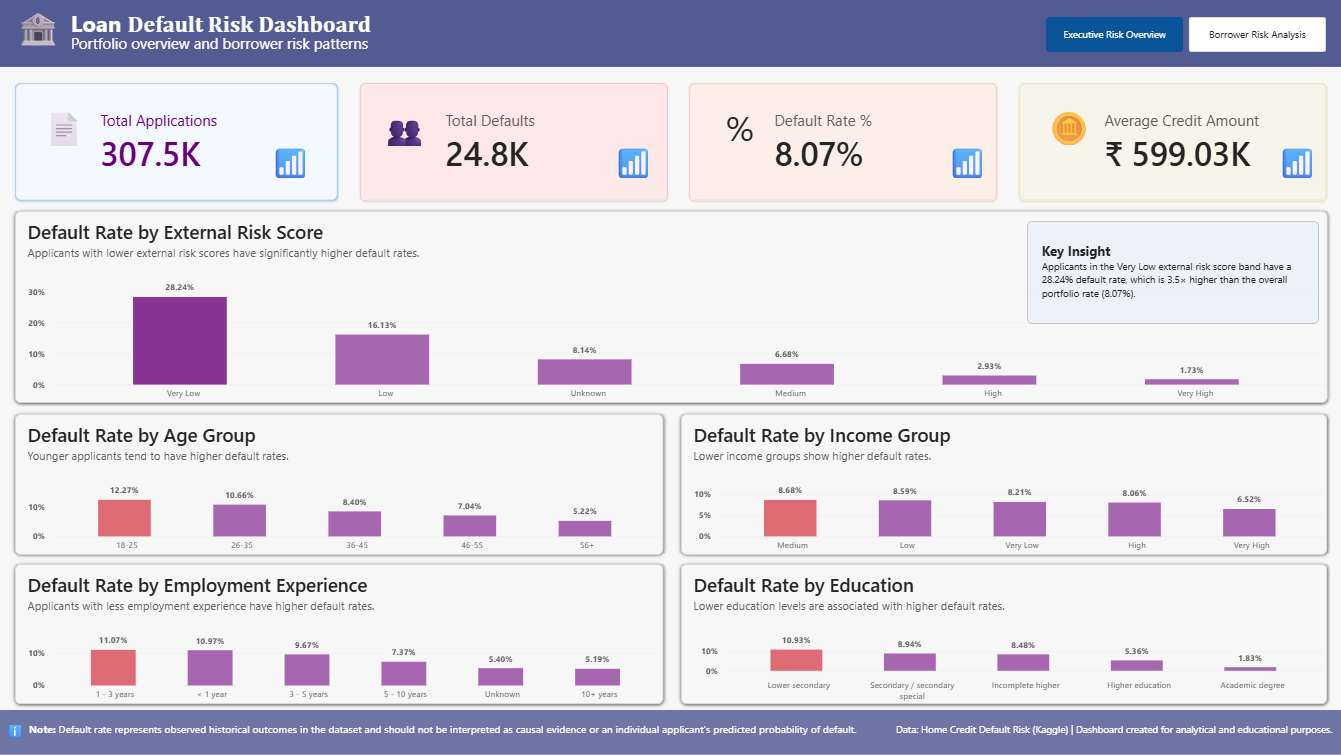

This screenshot's page, from the dashboard's own definition file:
{"tool":"powerbi","page":{"name":"Executive Risk Overview","canvas":[1920,1080],"ordinal":0},"visuals":[{"type":"shape","title":"Lan","box":[0,0,1920.6,97.1],"z":0},{"type":"cardVisual","title":"Total Applications","fields":{"Data":["applications_clean.Total Applications"]},"box":[23.9,119.7,461.5,168.9],"z":1000},{"type":"cardVisual","fields":{"Data":["applications_clean.Total Defaults"]},"box":[516.5,119.7,440.2,168.9],"z":2000},{"type":"cardVisual","fields":{"Data":["applications_clean.Default Rate %"]},"box":[987.8,119.7,440.2,168.9],"z":3000},{"type":"cardVisual","fields":{"Data":["applications_clean.Average Credit Amount"]},"box":[1459.1,119.7,440.2,168.9],"z":4000},{"type":"clusteredColumnChart","title":"Default Rate by External Risk Score","fields":{"Category":["applications_clean.EXT_SOURCE_BAND"],"Y":["applications_clean.Default Rate %"]},"box":[23.9,303.3,1875.4,274],"z":5000},{"type":"clusteredColumnChart","title":"Default Rate by Age Group","fields":{"Category":["applications_clean.AGE_GROUP"],"Y":["applications_clean.Default Rate %"]},"box":[23.9,593.2,925.7,200.8],"z":6000},{"type":"clusteredColumnChart","title":"Default Rate by Income Group","fields":{"Category":["applications_clean.INCOME_GROUP"],"Y":["applications_clean.Default Rate %"]},"box":[976.3,593.2,923.1,200.8],"z":7000},{"type":"clusteredColumnChart","title":"Default Rate by Employment Experience","fields":{"Category":["applications_clean.EMPLOYMENT_BAND"],"Y":["applications_clean.Default Rate %"]},"box":[23.9,807.3,925.7,199.5],"z":8000},{"type":"clusteredColumnChart","title":"Default Rate by Education","fields":{"Y":["applications_clean.Default Rate %"],"Category":["applications_clean.NAME_EDUCATION_TYPE"]},"box":[976.3,807.3,923.1,199.5],"z":9000},{"type":"shape","box":[0,1016.2,1920.6,63.8],"z":10000},{"type":"textbox","box":[103.7,12,444.2,53.2],"z":11000},{"type":"textbox","box":[103.7,49.2,428.3,53.2],"z":12000},{"type":"textbox","box":[43.9,1033.4,1186.4,29.3],"z":13000},{"type":"textbox","box":[1283.5,1033.4,626.5,29.3],"z":14000},{"type":"textbox","box":[1470,317.1,417.1,147.1],"z":15000},{"type":"textbox","box":[23.9,10.6,73.2,65.2],"z":16000},{"type":"textbox","box":[61.2,151.6,70.5,71.8],"z":17000},{"type":"textbox","box":[548,151.6,70.5,71.8],"z":18000},{"type":"textbox","box":[1497.6,150.3,78.5,73.2],"z":19000},{"type":"textbox","box":[1040.1,151.6,70.5,71.8],"z":20000},{"type":"textbox","box":[12,1033,23.9,25.3],"z":21000},{"type":"textbox","box":[388.6,204.3,71.4,62.9],"z":22000},{"type":"textbox","box":[878.6,204.3,71.4,62.9],"z":23000},{"type":"textbox","box":[1355.7,204.3,71.4,62.9],"z":24000},{"type":"textbox","box":[1827.1,204.3,71.4,62.9],"z":25000},{"type":"pageNavigator","box":[1497.1,25.7,400,50],"z":26000}]}

Visuals, with their boxes in screenshot pixels (x1, y1, x2, y2), scaled from the page's 1920x1080 canvas onto the 1341x755 screenshot:
"Lan" shape: {"x1": 0, "y1": 0, "x2": 1340, "y2": 68}
"Total Applications" cardVisual: {"x1": 17, "y1": 84, "x2": 339, "y2": 202}
cardVisual - applications_clean.Total Defaults: {"x1": 361, "y1": 84, "x2": 668, "y2": 202}
cardVisual - applications_clean.Default Rate %: {"x1": 690, "y1": 84, "x2": 997, "y2": 202}
cardVisual - applications_clean.Average Credit Amount: {"x1": 1019, "y1": 84, "x2": 1327, "y2": 202}
"Default Rate by External Risk Score" clusteredColumnChart: {"x1": 17, "y1": 212, "x2": 1327, "y2": 404}
"Default Rate by Age Group" clusteredColumnChart: {"x1": 17, "y1": 415, "x2": 663, "y2": 555}
"Default Rate by Income Group" clusteredColumnChart: {"x1": 682, "y1": 415, "x2": 1327, "y2": 555}
"Default Rate by Employment Experience" clusteredColumnChart: {"x1": 17, "y1": 564, "x2": 663, "y2": 704}
"Default Rate by Education" clusteredColumnChart: {"x1": 682, "y1": 564, "x2": 1327, "y2": 704}
shape: {"x1": 0, "y1": 710, "x2": 1340, "y2": 754}
textbox: {"x1": 72, "y1": 8, "x2": 383, "y2": 46}
textbox: {"x1": 72, "y1": 34, "x2": 372, "y2": 72}
textbox: {"x1": 31, "y1": 722, "x2": 859, "y2": 743}
textbox: {"x1": 896, "y1": 722, "x2": 1334, "y2": 743}
textbox: {"x1": 1027, "y1": 222, "x2": 1318, "y2": 325}
textbox: {"x1": 17, "y1": 7, "x2": 68, "y2": 53}
textbox: {"x1": 43, "y1": 106, "x2": 92, "y2": 156}
textbox: {"x1": 383, "y1": 106, "x2": 432, "y2": 156}
textbox: {"x1": 1046, "y1": 105, "x2": 1101, "y2": 156}
textbox: {"x1": 726, "y1": 106, "x2": 776, "y2": 156}
textbox: {"x1": 8, "y1": 722, "x2": 25, "y2": 740}
textbox: {"x1": 271, "y1": 143, "x2": 321, "y2": 187}
textbox: {"x1": 614, "y1": 143, "x2": 664, "y2": 187}
textbox: {"x1": 947, "y1": 143, "x2": 997, "y2": 187}
textbox: {"x1": 1276, "y1": 143, "x2": 1326, "y2": 187}
pageNavigator: {"x1": 1046, "y1": 18, "x2": 1325, "y2": 53}
